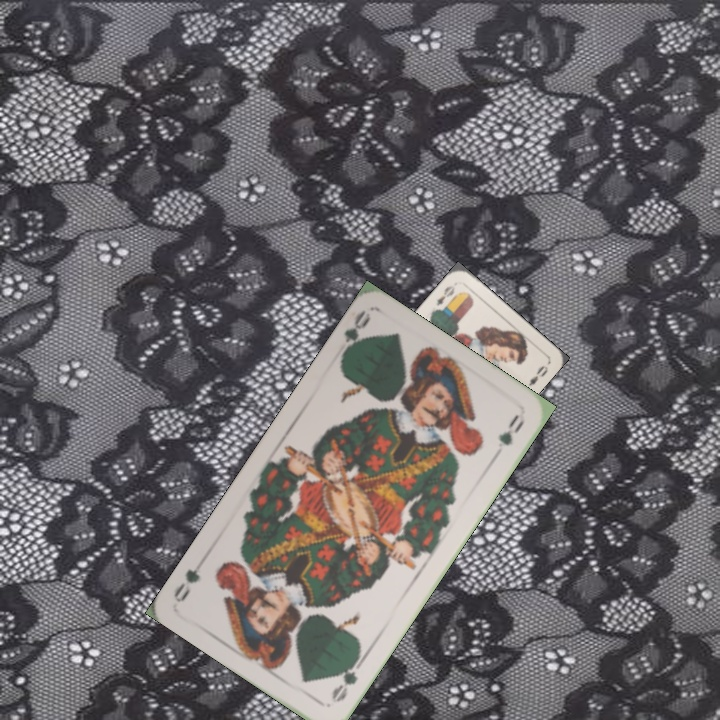EO: (432, 281, 457, 309)
GO: (337, 307, 374, 364), (327, 654, 367, 705)
